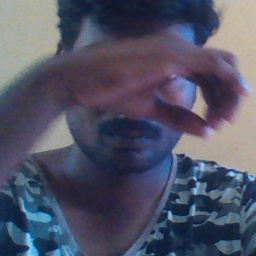O: (74, 31, 250, 140)
